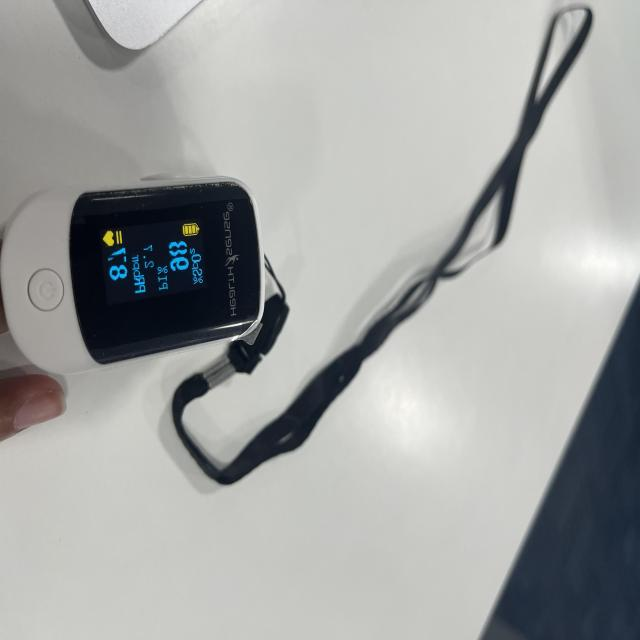spo2: (0, 179, 253, 382)
